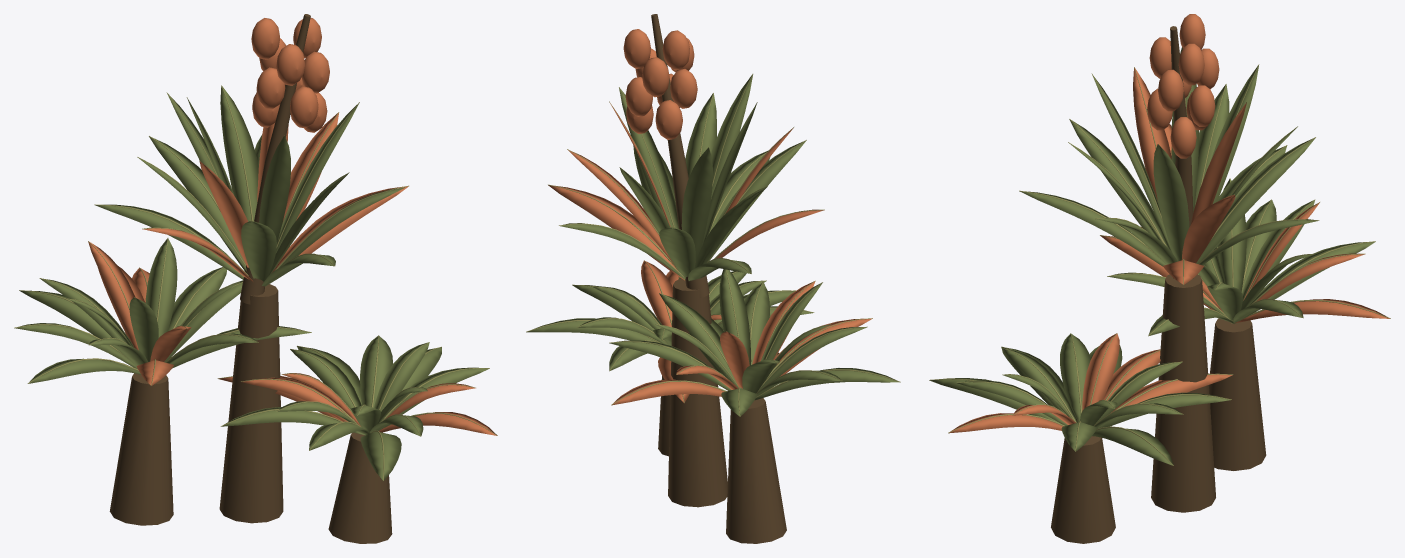
Rendered from kharon_yucca.glb.
The picture shows the model from 3 angles, left to right: view 1: azimuth 30°, elevation 25°; view 2: azimuth 150°, elevation 25°; view 3: azimuth 270°, elevation 25°; orthographic projection. The views are drawn at different scales.
Visible parts, largest first — view 1: kharon_yucca; view 2: kharon_yucca; view 3: kharon_yucca.
Part boxes in pixels (x1,y1,x2,y2): kharon_yucca: (14,14,497,543); kharon_yucca: (526,14,900,543); kharon_yucca: (929,14,1390,543).
Size of the model in its own units: 9.46 by 10.98 by 9.22.
